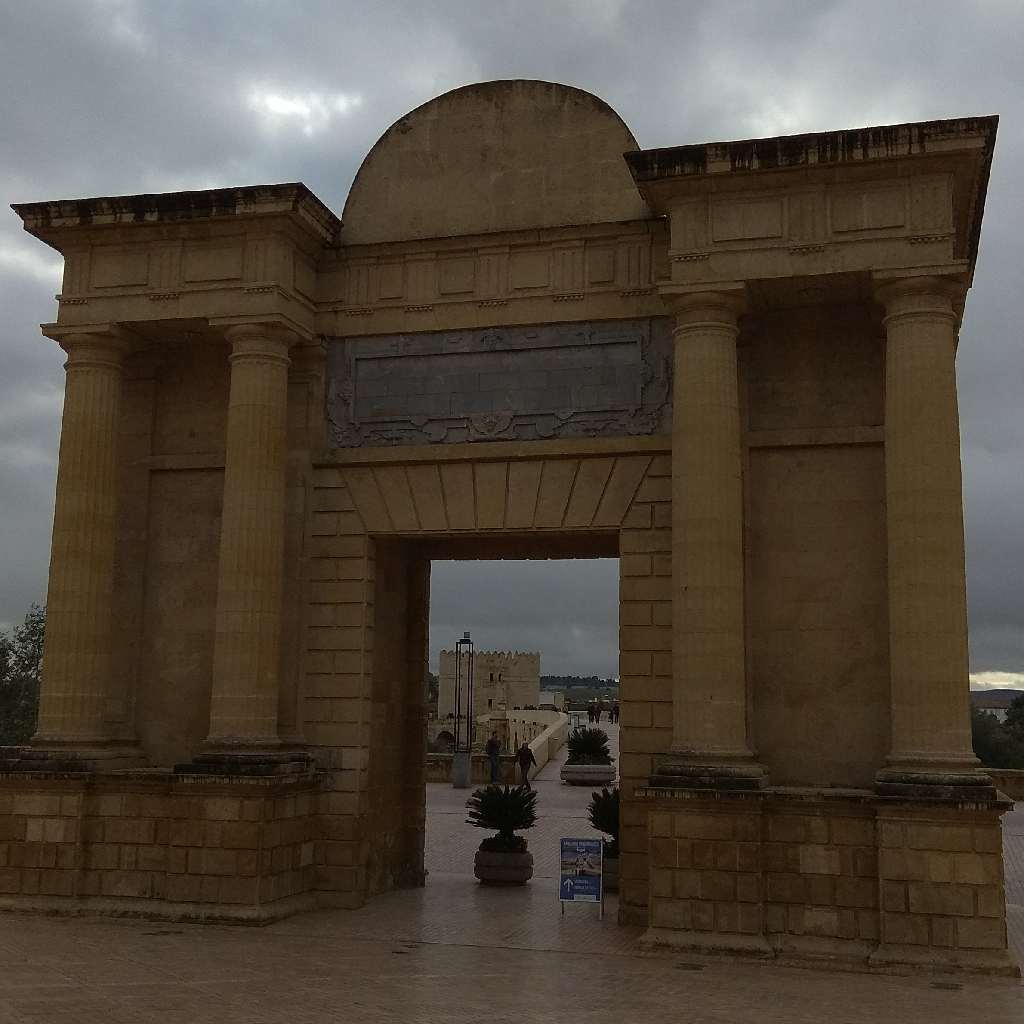vano-adintelado: (325, 467, 656, 923)
